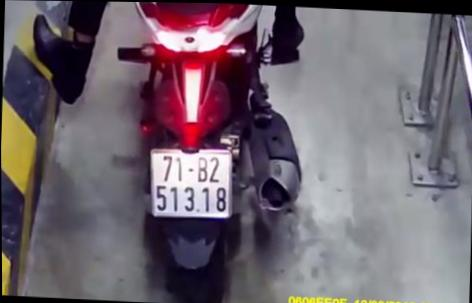LP: (144, 145, 236, 219)
